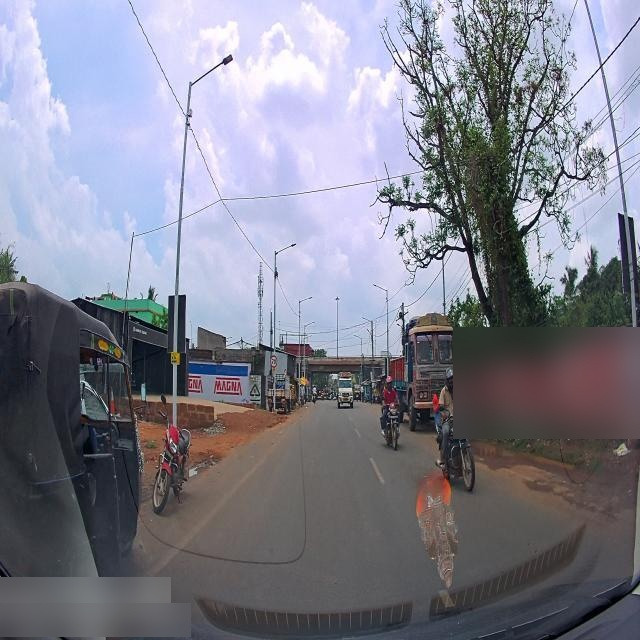pothole: (474, 432, 514, 464)
